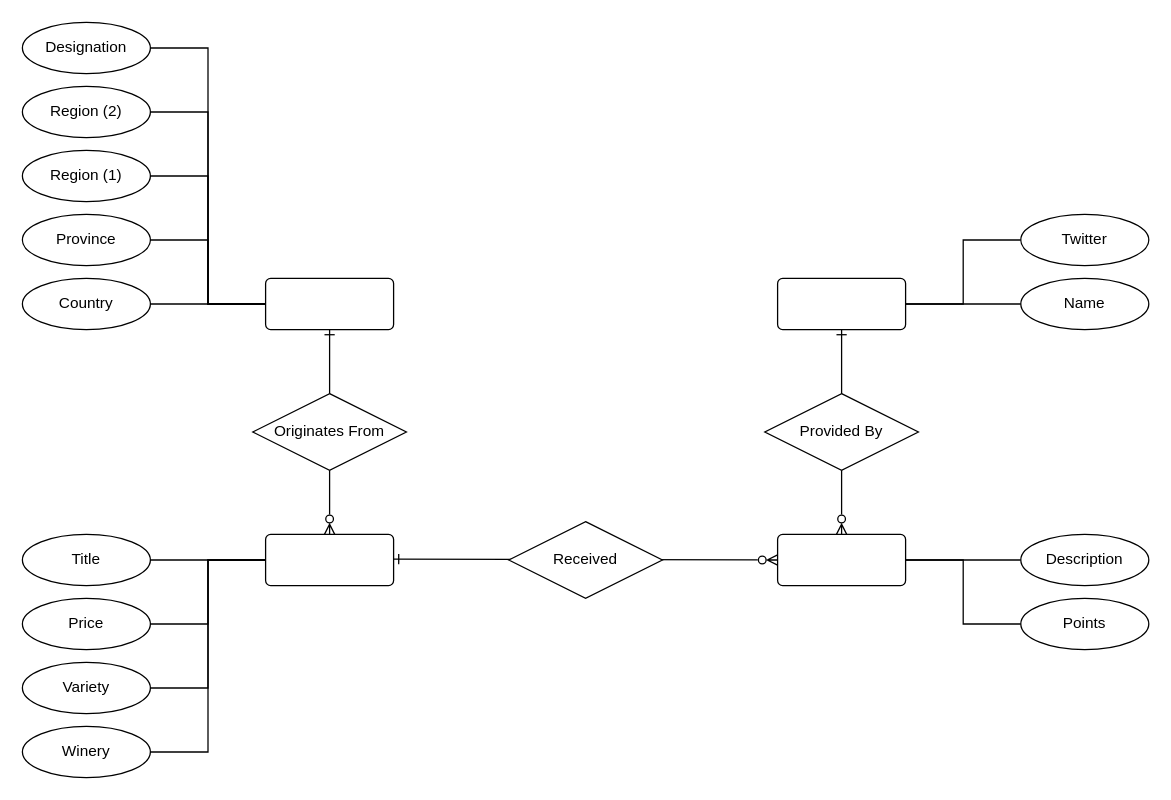
This 1171x800 diagram has some shape labels left out. The centre of each missing label's shape, as x and y in pixels:
"Location" belongs at pixel 329 303.
"Review" belongs at pixel 841 559.
"Taster" belongs at pixel 841 303.
"Wine" belongs at pixel 329 559.
